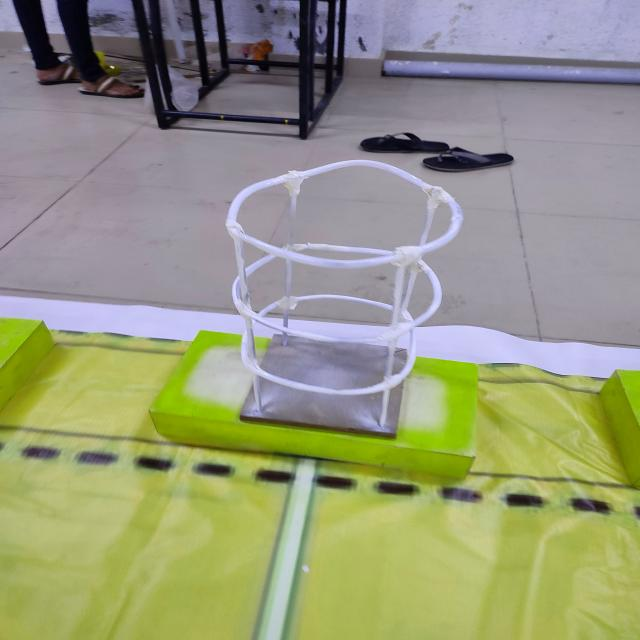silo: (201, 139, 472, 448)
